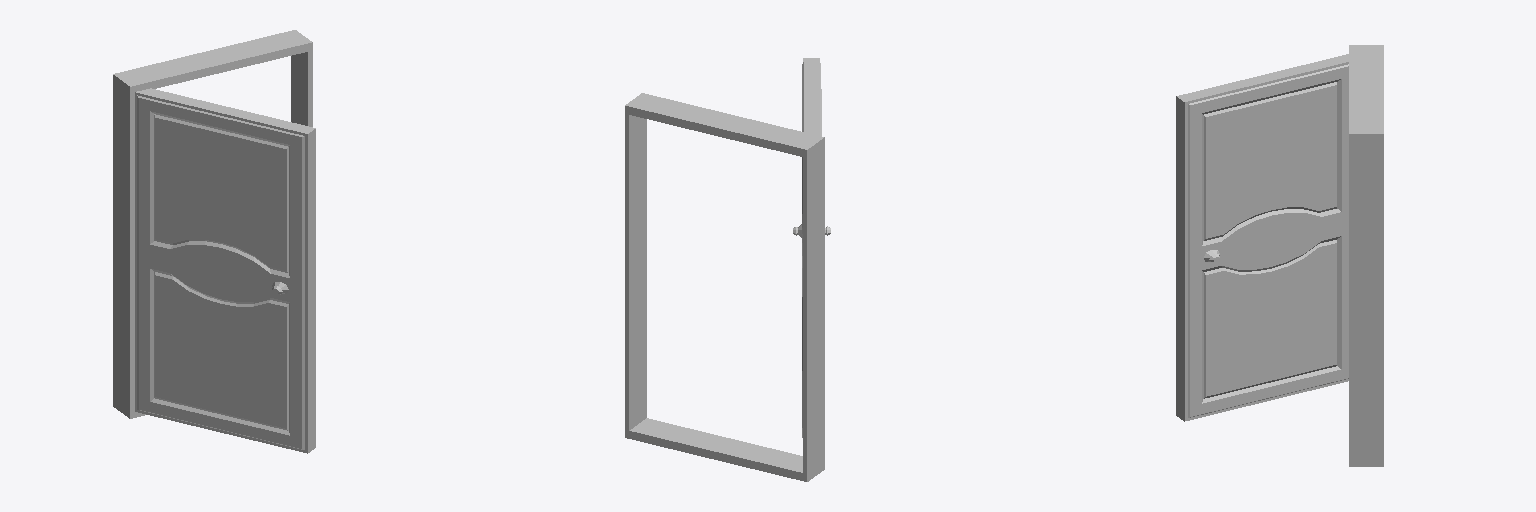
File: drzwiok_000017.obj
3 views of the same model, side by side, from view 1: azimuth 30°, elevation 25°; view 2: azimuth 150°, elevation 25°; view 3: azimuth 270°, elevation 25° (orthographic).
Visible parts, largest first — view 1: Door_4.001_Cube.001, Kostka; view 2: Kostka, Door_4.001_Cube.001; view 3: Door_4.001_Cube.001, Kostka.
Part boxes in pixels (x1,y1,x2,y2): Door_4.001_Cube.001: (135,88,315,453); Kostka: (113,30,312,418); Kostka: (625,93,824,481); Door_4.001_Cube.001: (793,58,830,437); Door_4.001_Cube.001: (1176,54,1348,421); Kostka: (1349,45,1383,466).
Size of the model in its own units: 0.7416 by 1.29 by 0.7302.